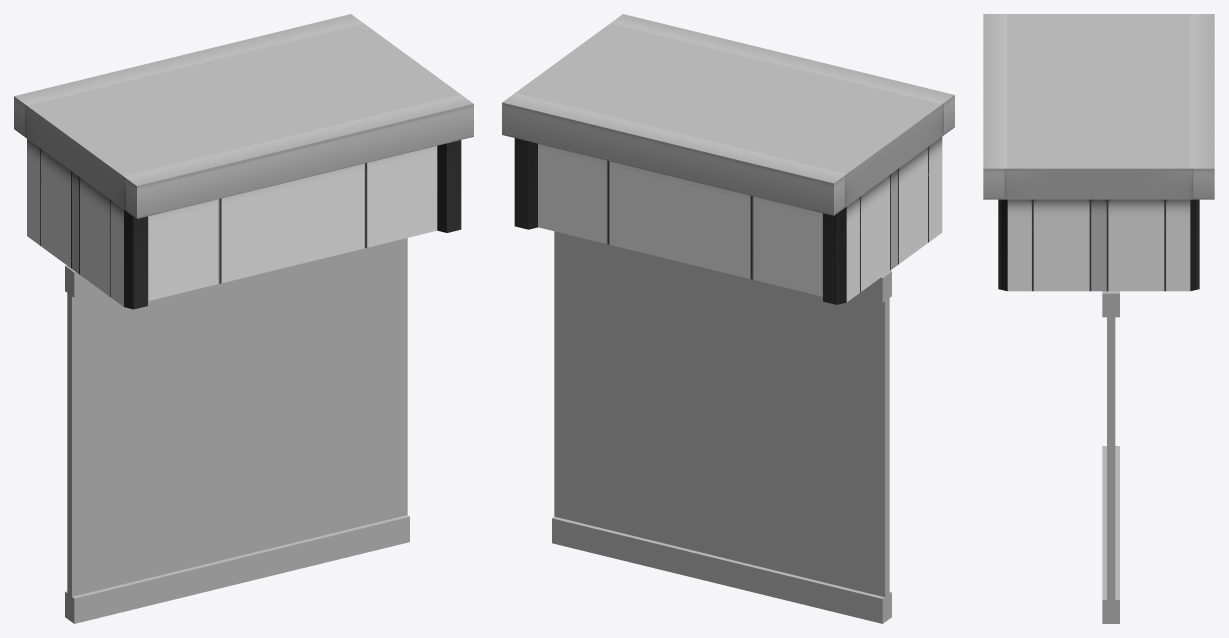
File: Door.FBX
The picture shows the model from 3 angles, left to right: view 1: azimuth 30°, elevation 25°; view 2: azimuth 150°, elevation 25°; view 3: azimuth 270°, elevation 25°; orthographic projection. The views are drawn at different scales.
Visible parts, largest first — view 1: Box058, Box060, Box061; view 2: Box058, Box060, Box061; view 3: Box058, Box061, Box060.
Boxes of the visible parts, x1,y1,x2,y2 form: Box058: (14,14,473,309); Box060: (65,265,242,623); Box061: (240,238,409,582); Box058: (502,14,954,304); Box060: (717,271,891,623); Box061: (552,231,719,583); Box058: (983,14,1214,291); Box061: (1102,291,1119,623); Box060: (1102,446,1119,522).
Bounding box in the file's own units: 20.08 × 27.57 × 12.67.
